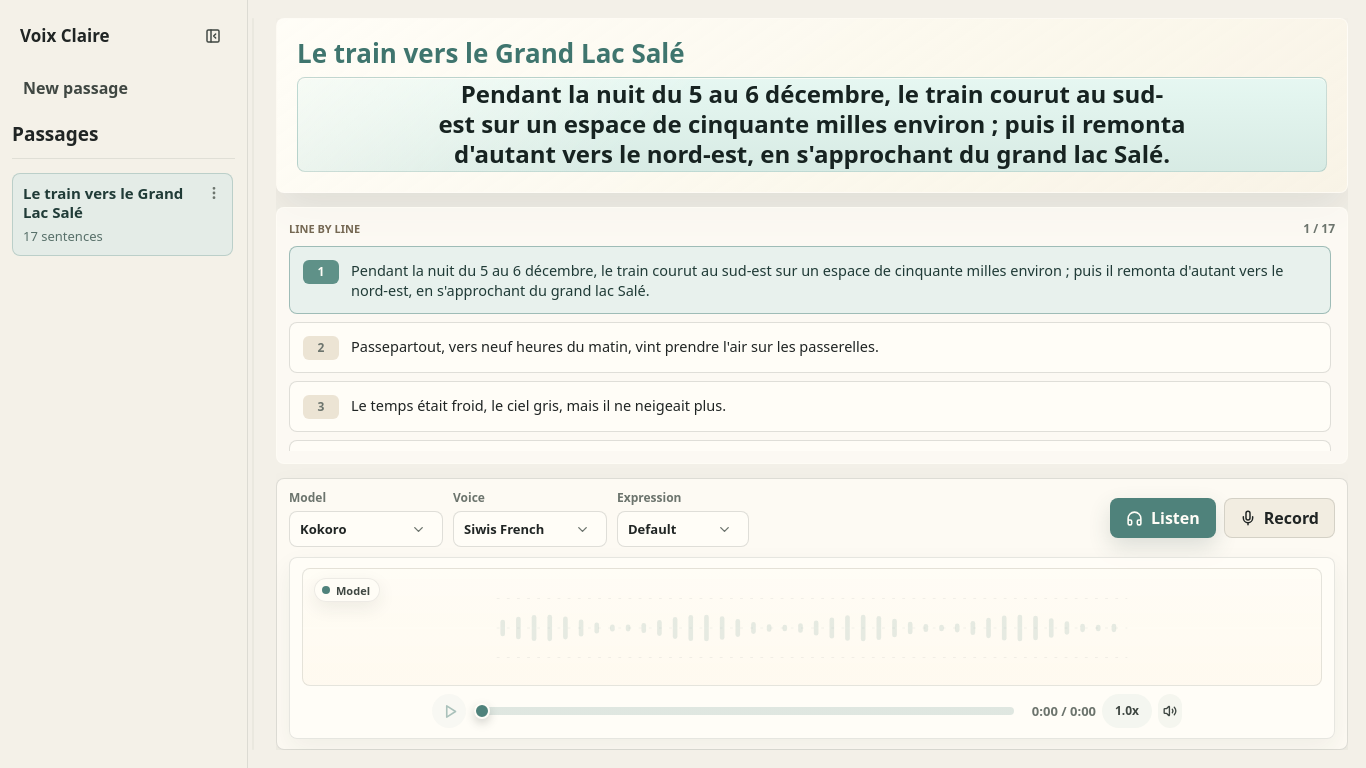
Test case: Passages sidebar › uses a generated passage name when the title is empty
Click the button "New passage" at coordinates (124, 89), box [12, 70, 235, 108]
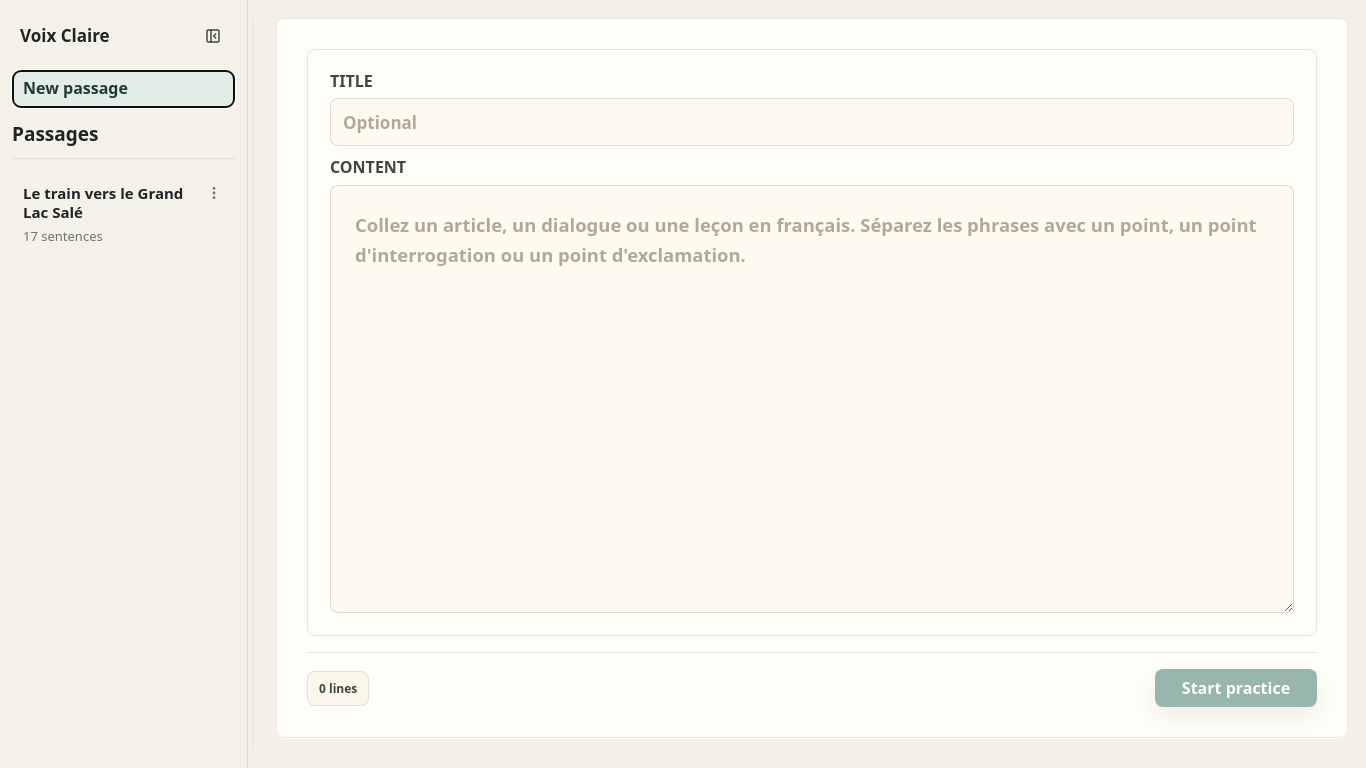
Type "Bonjour." into the text box labelled "Content" at coordinates (812, 399), box [330, 185, 1294, 613]
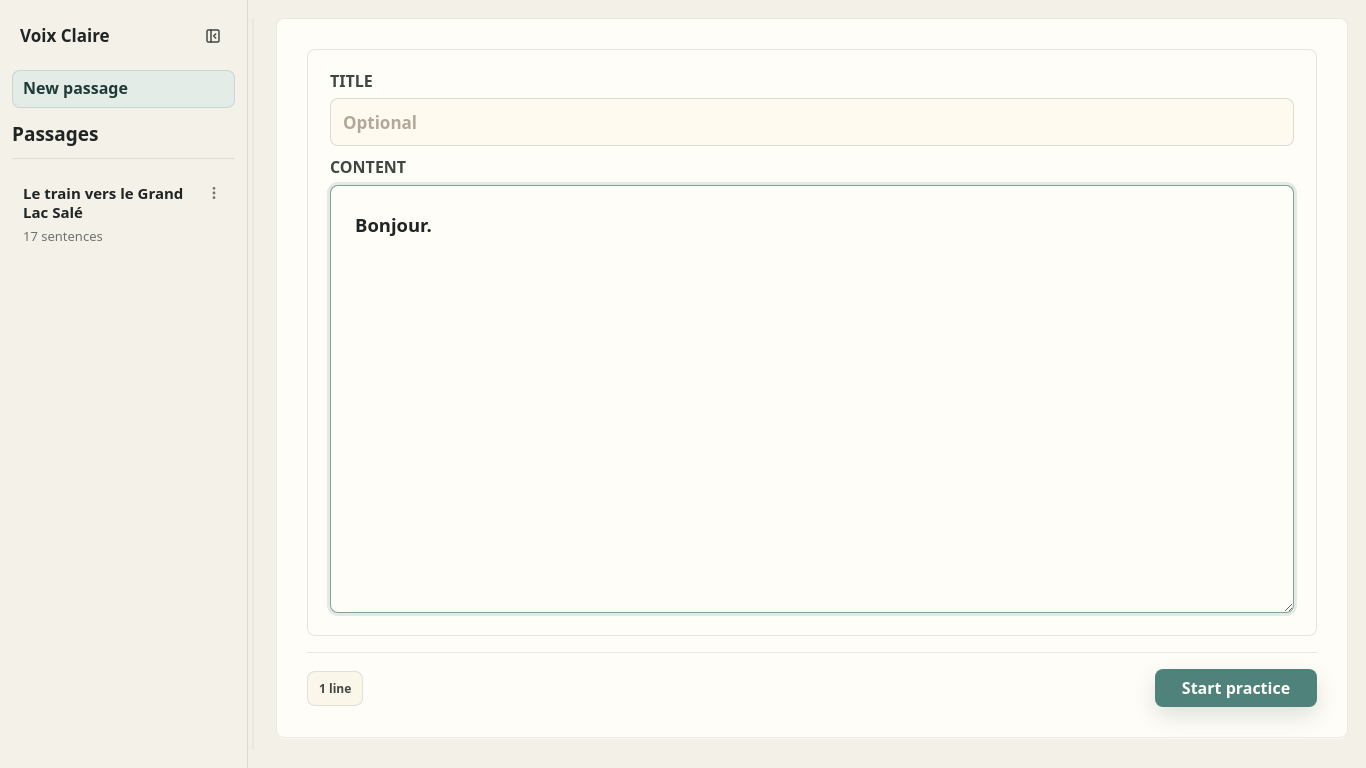
Click the button "Start practice" at coordinates (1236, 688), box [1155, 669, 1317, 707]
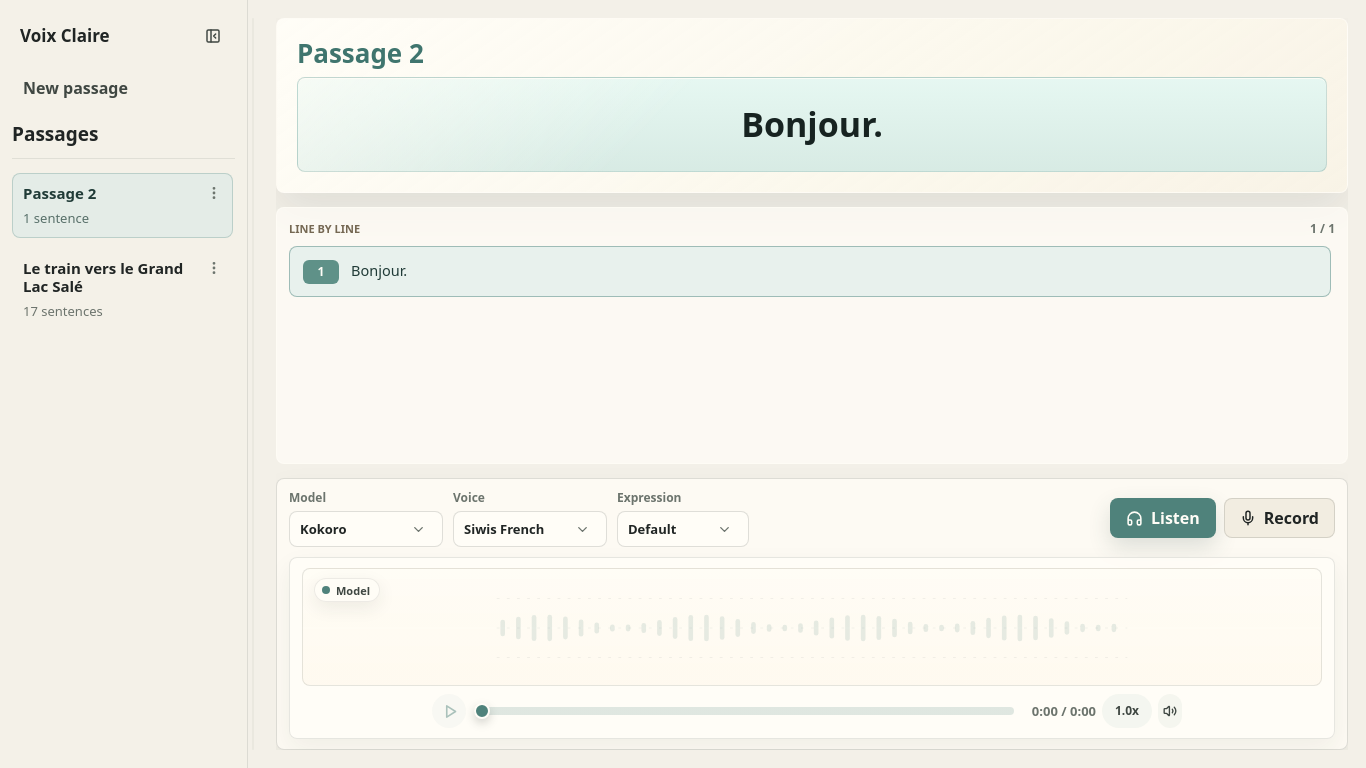
expect the button with aria-label "Passage 2, 1 sentence" is shown: met, box [12, 173, 233, 238]
